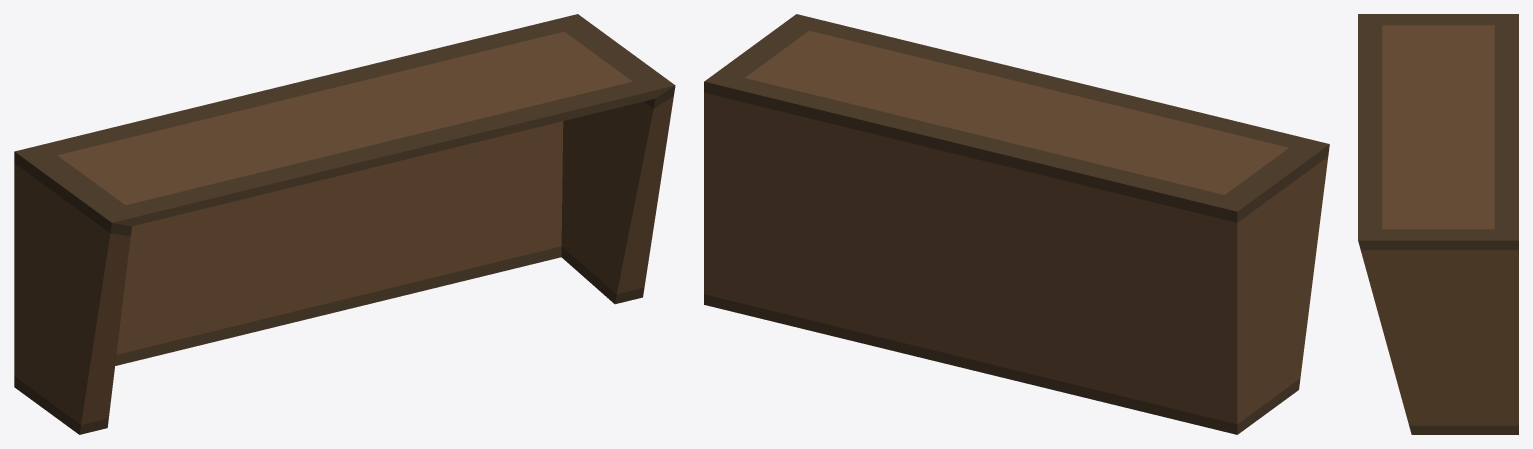
The model's file is Table.fbx.
The picture shows the model from 3 angles, left to right: view 1: azimuth 30°, elevation 25°; view 2: azimuth 150°, elevation 25°; view 3: azimuth 270°, elevation 25°; orthographic projection. The views are drawn at different scales.
Visible parts, largest first — view 1: Table; view 2: Table; view 3: Table.
Part boxes in pixels (left/top/right/bottom): Table: left=14, top=14, right=675, bottom=434; Table: left=704, top=14, right=1329, bottom=434; Table: left=1358, top=14, right=1518, bottom=434.
Size of the model in its own units: 2000 by 800 by 600.
